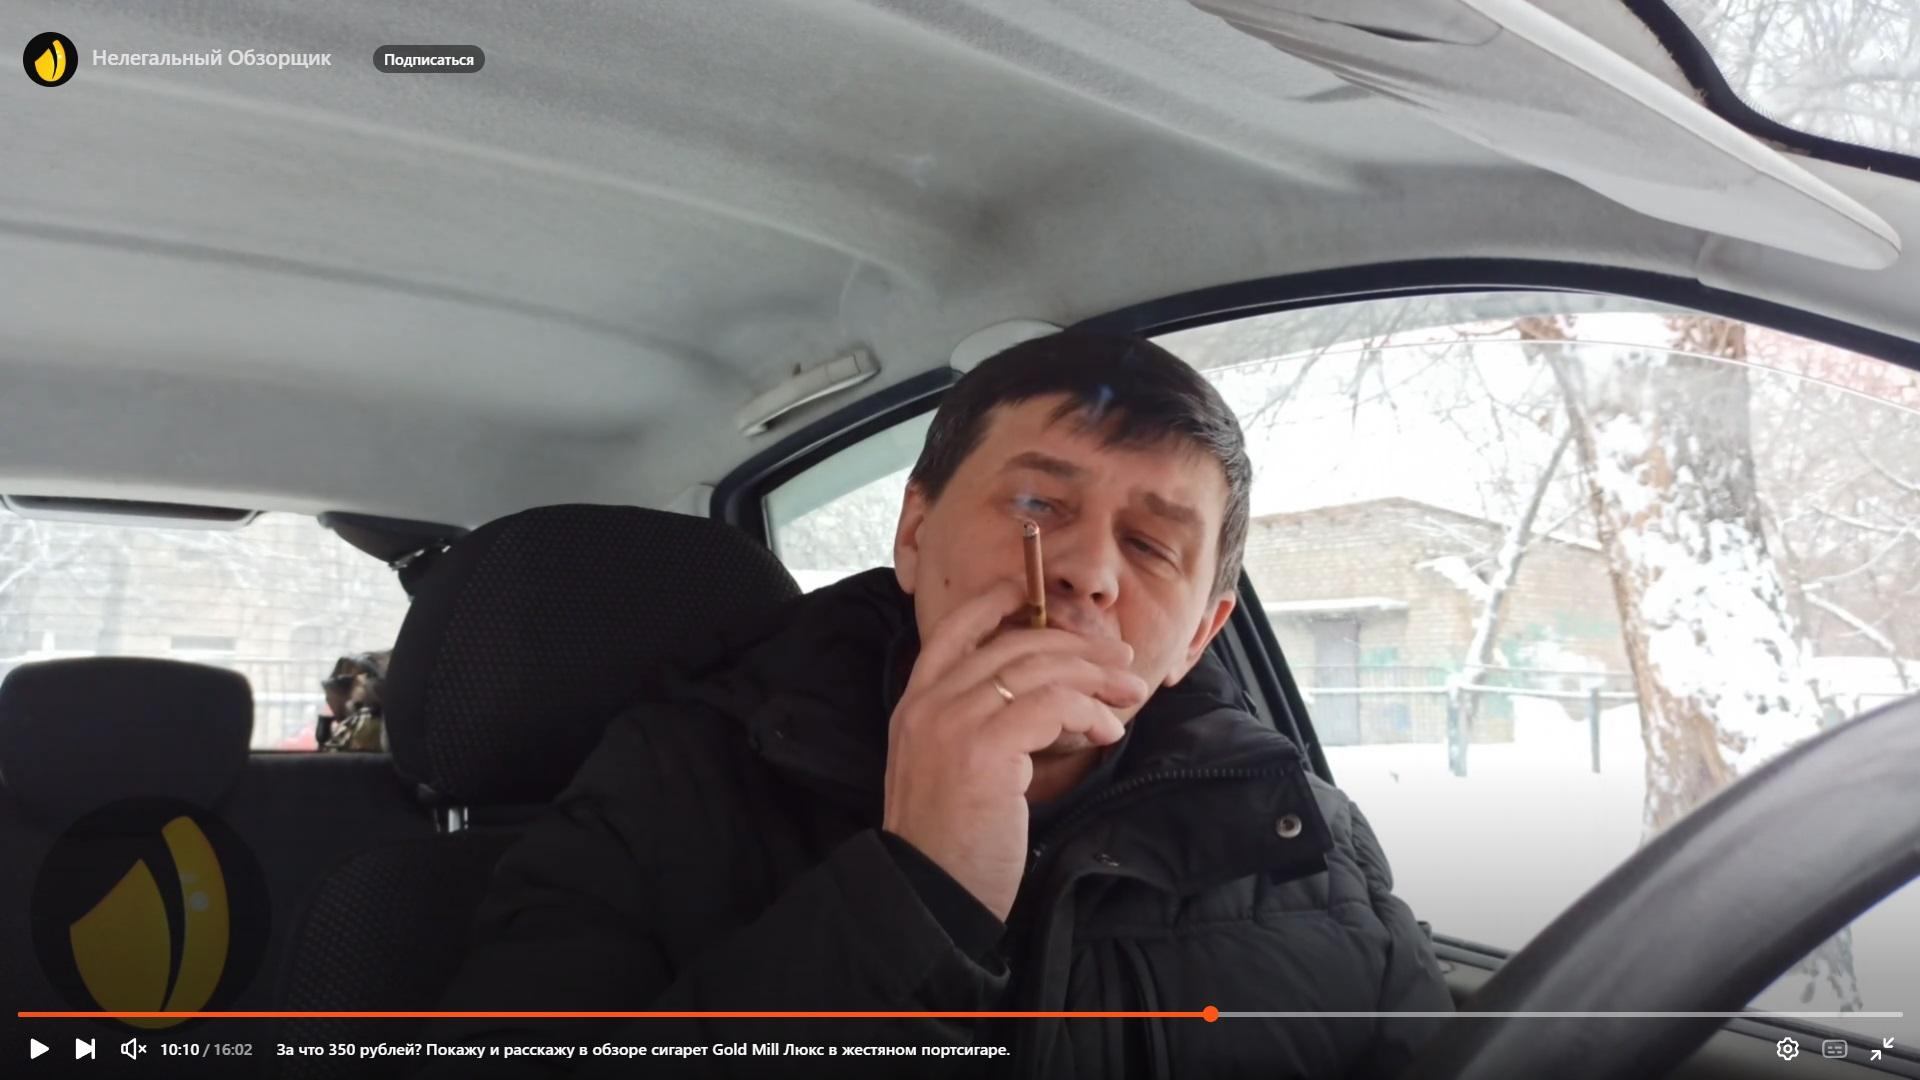cigarette: (1022, 520, 1047, 629)
